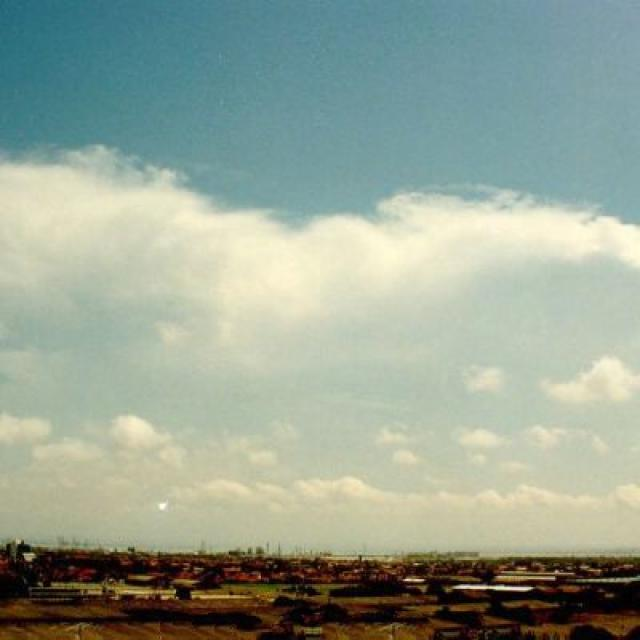St: (1, 132, 639, 530)
